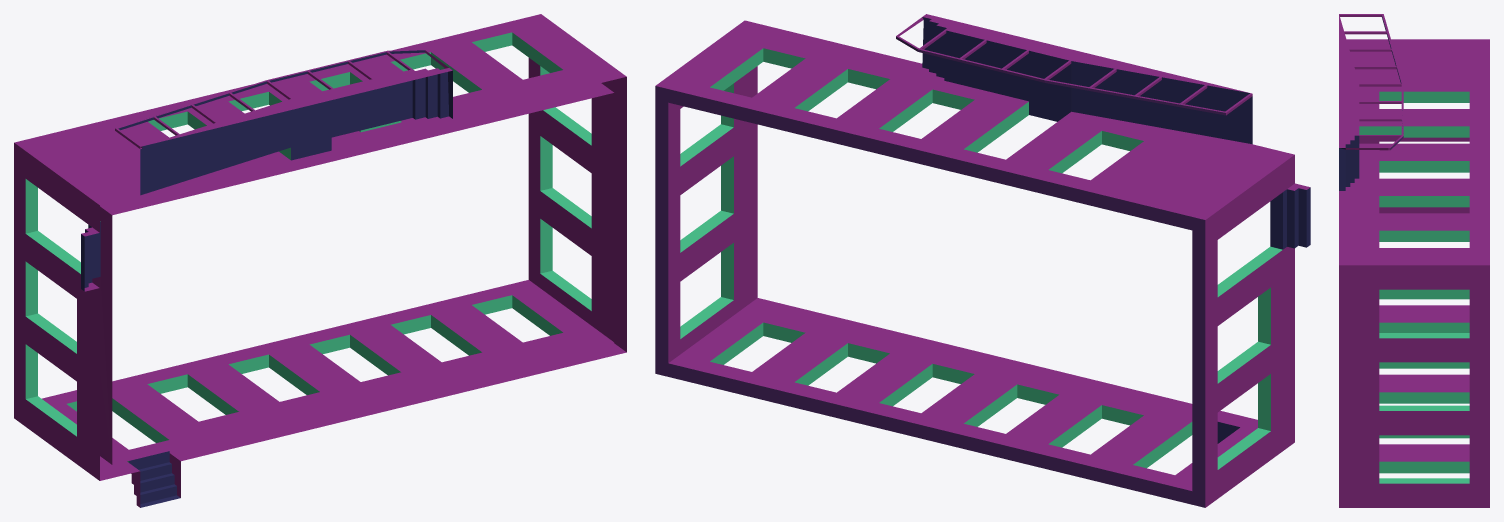
File: Dom_Staroscinski Tier 1.fbx
3 views of the same model, side by side, from view 1: azimuth 30°, elevation 25°; view 2: azimuth 150°, elevation 25°; view 3: azimuth 270°, elevation 25° (orthographic). The views are drawn at different scales.
Visible parts, largest first — view 1: Dom_Starościński; view 2: Dom_Starościński; view 3: Dom_Starościński.
Part boxes in pixels (box(x1,y1,x2,y2)): Dom_Starościński: box(14, 14, 626, 507); Dom_Starościński: box(655, 14, 1310, 507); Dom_Starościński: box(1339, 14, 1489, 507).
Bounding box in the file's own units: 3.66 × 2.33 × 1.
